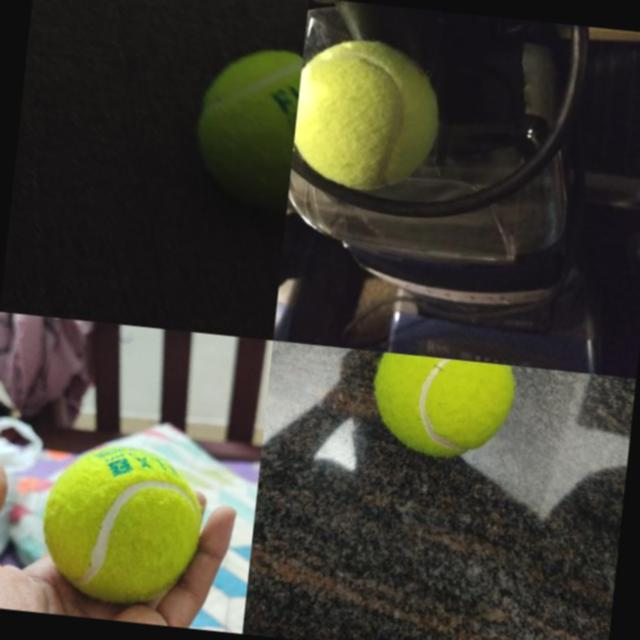tennis-ball: (35, 438, 207, 610), (289, 32, 448, 199), (188, 38, 302, 212), (366, 351, 516, 464)
